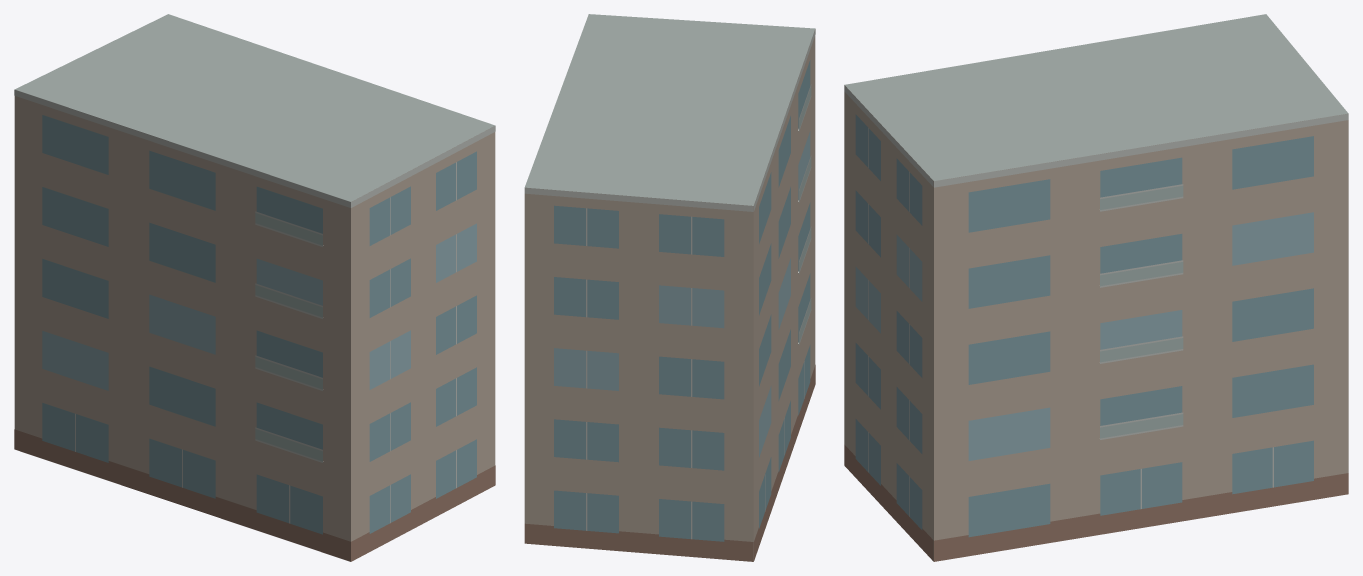
File: survey-upis-32750468.glb
3 renders of one model, left to right at view 1: azimuth 30°, elevation 25°; view 2: azimuth 150°, elevation 25°; view 3: azimuth 270°, elevation 25°, orthographic. The views are drawn at different scales.
Visible parts, largest first — view 1: survey-upis-32750468.tmp; view 2: survey-upis-32750468.tmp; view 3: survey-upis-32750468.tmp.
Part boxes in pixels (box(x1,y1,x2,y2)): survey-upis-32750468.tmp: box(14, 14, 495, 561); survey-upis-32750468.tmp: box(524, 14, 815, 561); survey-upis-32750468.tmp: box(844, 14, 1348, 561).
Bounding box in the file's own units: 13.48 × 14.3 × 17.18.
